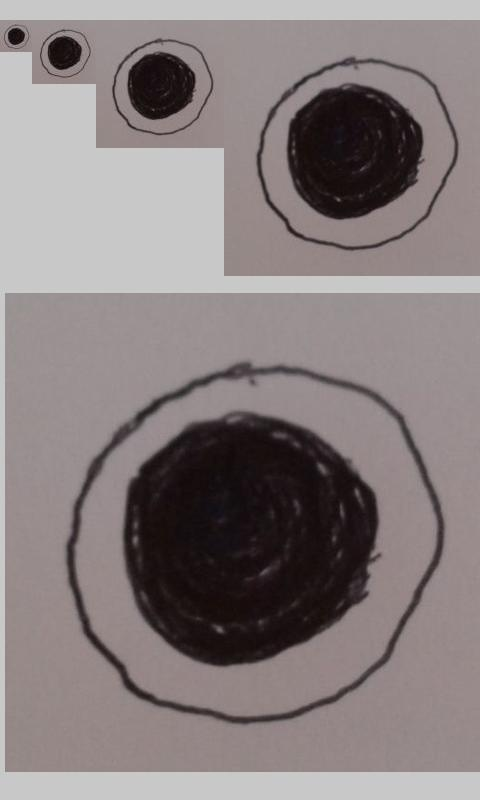radio_button: (63, 359, 447, 729), (254, 53, 462, 253), (111, 37, 214, 136), (39, 28, 92, 78), (3, 24, 30, 50)
